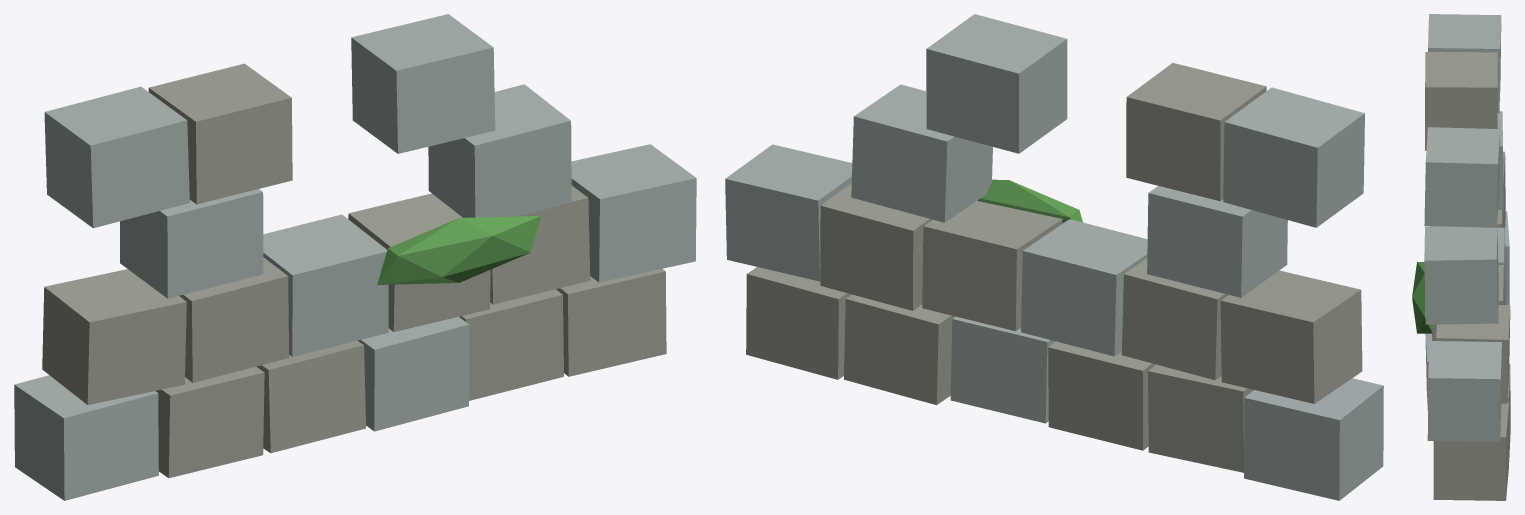
File: ruin_wall_a.glb
3 renders of one model, left to right at view 1: azimuth 30°, elevation 25°; view 2: azimuth 150°, elevation 25°; view 3: azimuth 270°, elevation 25°, orthographic. The views are drawn at different scales.
Visible parts, largest first — view 1: Block_3_0, Block_3_3, Block_1_0, Block_0_0, Block_2_4, Block_3_1, Block_1_5, Block_1_2, Block_2_1, Block_0_3, Block_0_1, Block_1_1 (+6 smaller); view 2: Block_3_3, Block_3_0, Block_1_0, Block_0_0, Block_2_4, Block_3_1, Block_1_2, Block_1_5, Block_1_3, Block_2_1, Block_1_4, Block_0_4 (+6 smaller); view 3: Block_1_5, Block_3_3, Block_2_4, Block_3_1, Block_0_5, Block_3_0, Block_1_4, Moss.004, Block_2_1, Block_0_0, Block_1_2, Block_1_3 (+3 smaller).
Boxes of the visible parts, x1,y1,x2,y2 form: Block_3_0: [44, 86, 189, 228]; Block_3_3: [351, 14, 495, 153]; Block_1_0: [42, 269, 186, 404]; Block_0_0: [14, 375, 158, 500]; Block_2_4: [428, 84, 571, 217]; Block_3_1: [148, 63, 292, 204]; Block_1_5: [571, 144, 696, 282]; Block_1_2: [263, 214, 388, 356]; Block_2_1: [120, 189, 263, 298]; Block_0_3: [358, 316, 469, 431]; Block_0_1: [155, 366, 264, 477]; Block_1_1: [179, 257, 288, 382]; Block_3_3: [926, 14, 1067, 153]; Block_3_0: [1223, 87, 1364, 227]; Block_1_0: [1220, 270, 1362, 403]; Block_0_0: [1244, 378, 1383, 500]; Block_2_4: [851, 84, 992, 222]; Block_3_1: [1126, 63, 1266, 200]; Block_1_2: [1021, 219, 1147, 356]; Block_1_5: [725, 144, 852, 281]; Block_1_3: [922, 200, 1062, 331]; Block_2_1: [1147, 186, 1287, 297]; Block_1_4: [820, 183, 932, 310]; Block_0_4: [843, 294, 955, 405]; Block_1_5: [1427, 341, 1501, 441]; Block_3_3: [1424, 127, 1500, 227]; Block_2_4: [1424, 225, 1498, 324]; Block_3_1: [1425, 52, 1497, 150]; Block_0_5: [1433, 402, 1509, 500]; Block_3_0: [1428, 14, 1501, 112]; Block_1_4: [1436, 305, 1510, 403]; Moss.004: [1412, 262, 1433, 333]; Block_2_1: [1497, 111, 1503, 209]; Block_0_0: [1505, 211, 1509, 304]; Block_1_2: [1497, 227, 1506, 304]; Block_1_3: [1432, 265, 1504, 340].
Bounding box in the file's own units: 4.48 × 2.41 × 0.7899.
